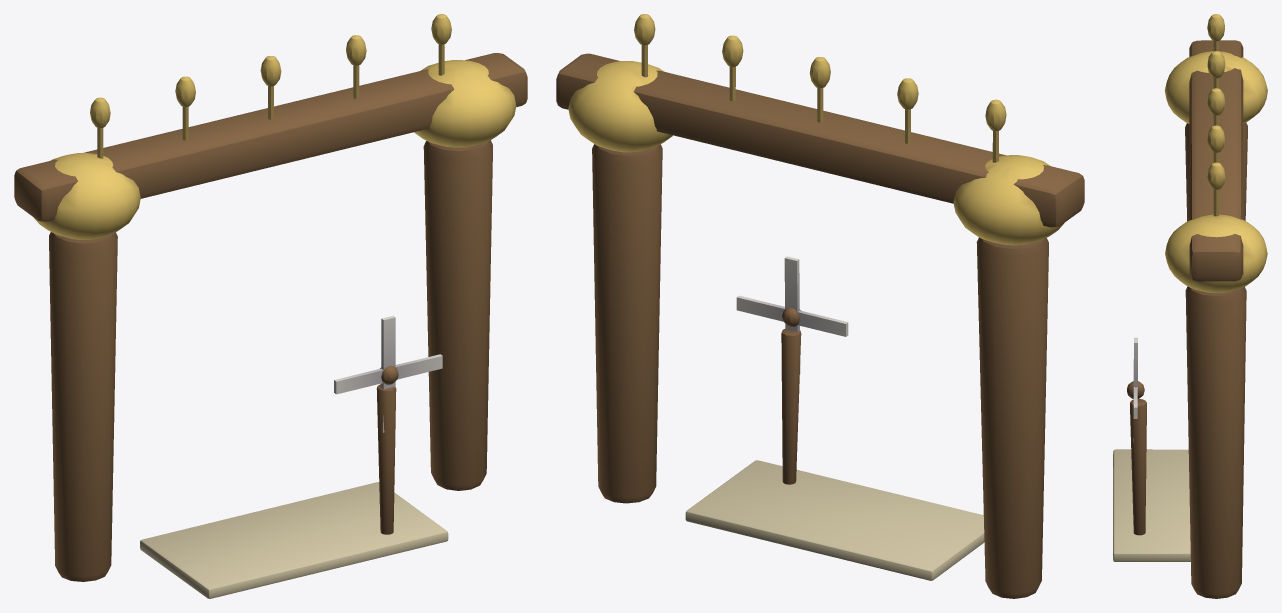
The picture shows the model from 3 angles, left to right: view 1: azimuth 30°, elevation 25°; view 2: azimuth 150°, elevation 25°; view 3: azimuth 270°, elevation 25°; orthographic projection. The views are drawn at different scales.
Visible parts, largest first — view 1: gate_74a5a999; view 2: gate_74a5a999; view 3: gate_74a5a999.
Boxes of the visible parts, left/top/right/bottom form: gate_74a5a999: left=14, top=14, right=527, bottom=598; gate_74a5a999: left=556, top=14, right=1084, bottom=598; gate_74a5a999: left=1113, top=14, right=1267, bottom=598.
Bounding box in the file's own units: 4.89 × 4.51 × 1.5.
